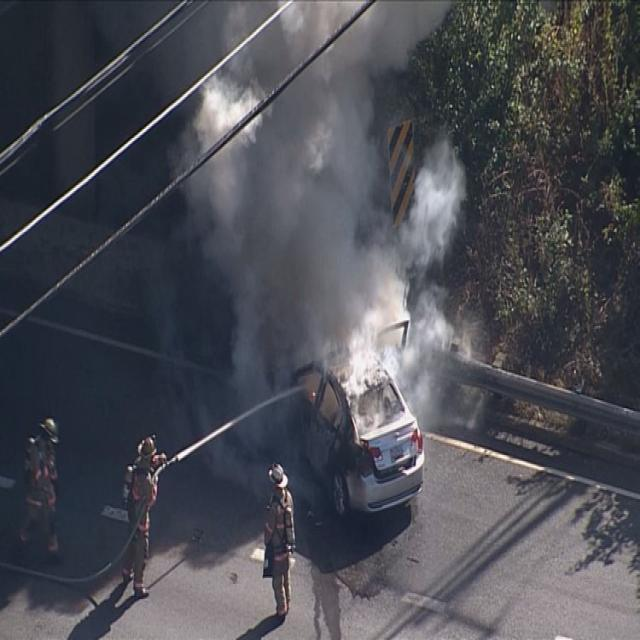Smoke: (164, 0, 468, 490)
